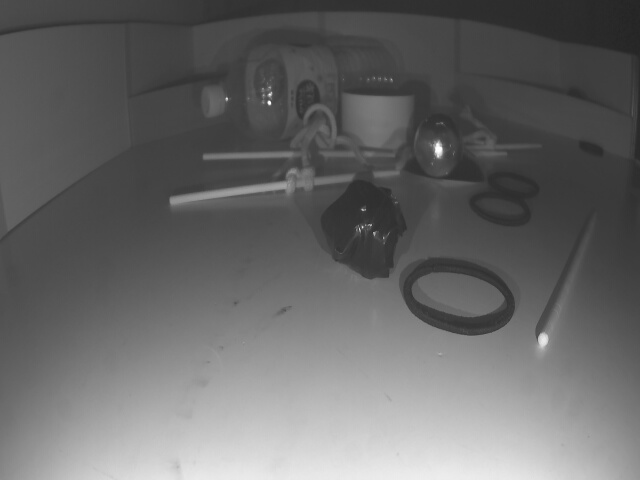Dead: (323, 177, 406, 280)
Live: (414, 115, 462, 175)
Point: (457, 73, 630, 154), (126, 71, 226, 137)
